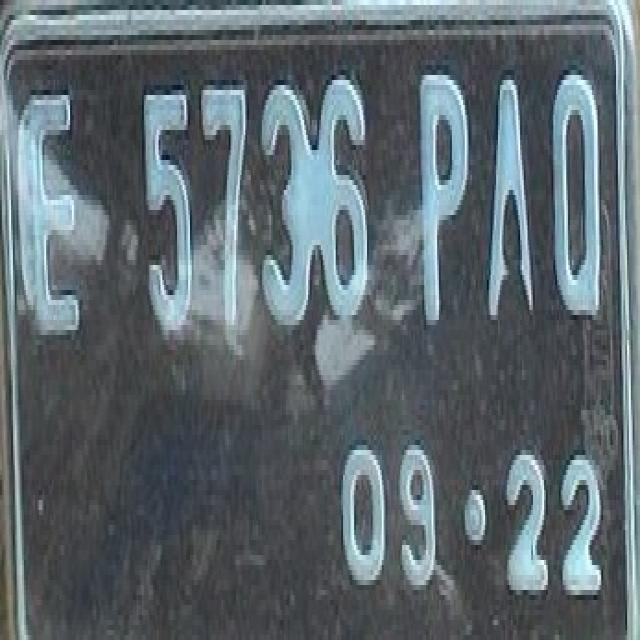plate: (0, 5, 623, 635)
